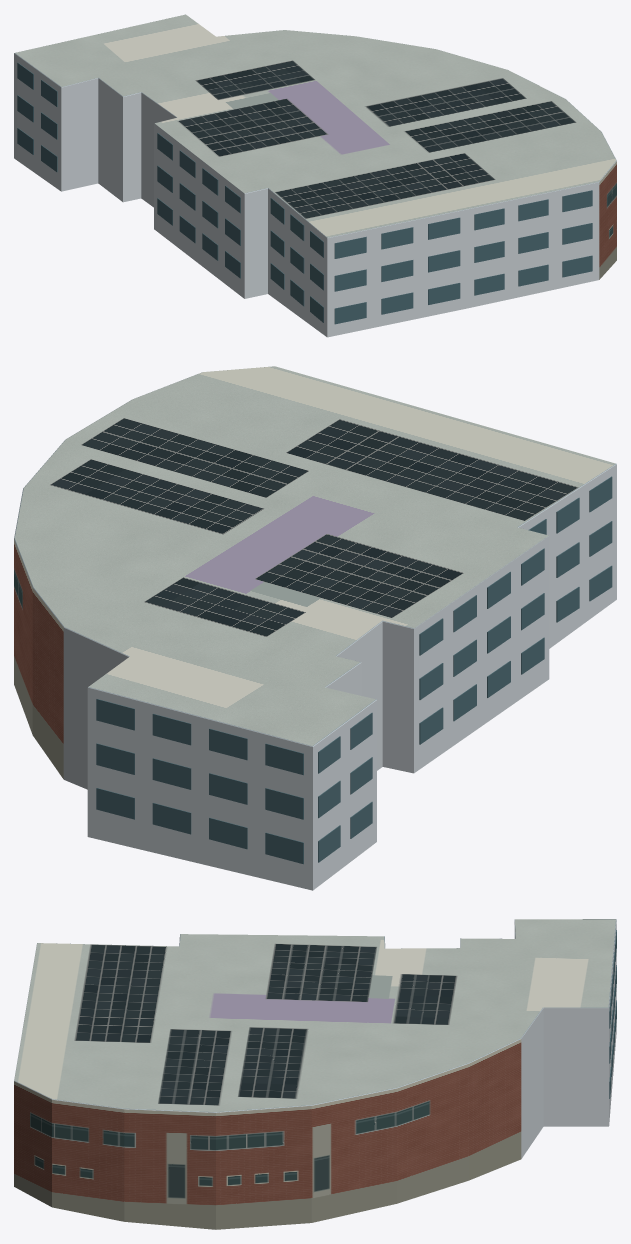
The model's file is intact.glb.
The picture shows the model from 3 angles, top to bottom: view 1: azimuth 30°, elevation 25°; view 2: azimuth 150°, elevation 25°; view 3: azimuth 270°, elevation 25°; orthographic projection. The views are drawn at different scales.
Parts seen in each view (by area): view 1: SM_vet_Intact_00, SM_vet_Intact_01; view 2: SM_vet_Intact_00, SM_vet_Intact_01; view 3: SM_vet_Intact_00, SM_vet_Intact_01.
Boxes of the visible parts, x1,y1,x2,y2 form: SM_vet_Intact_00: (14,14,616,337); SM_vet_Intact_01: (17,62,592,324); SM_vet_Intact_00: (14,366,616,890); SM_vet_Intact_01: (96,476,612,864); SM_vet_Intact_00: (14,919,616,1229); SM_vet_Intact_01: (609,930,616,1098).
Size of the model in its own units: 1.67 by 0.4867 by 2.2.
5 materials, 2 textured.
